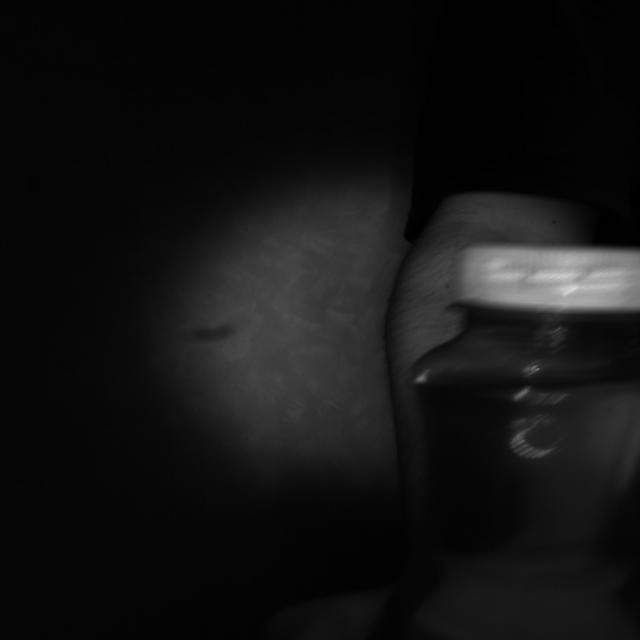Good: (460, 241, 640, 313)
